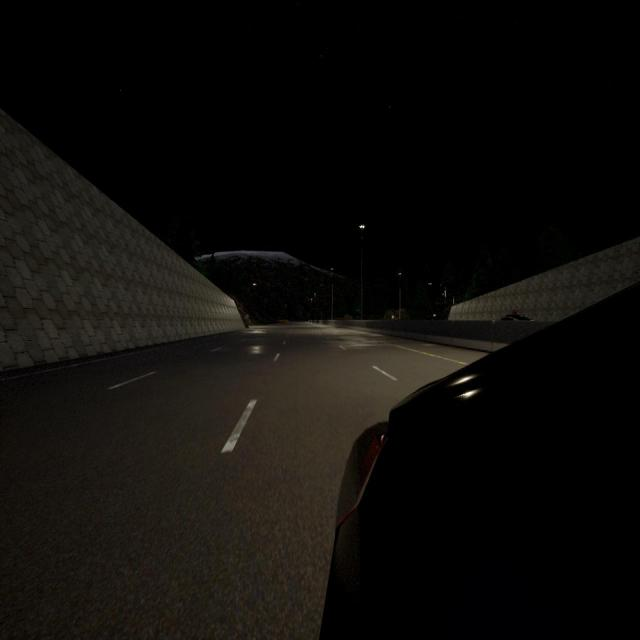Traffic_Signs: (245, 314, 249, 319)
Vehicle: (317, 281, 640, 639), (500, 313, 535, 324)
